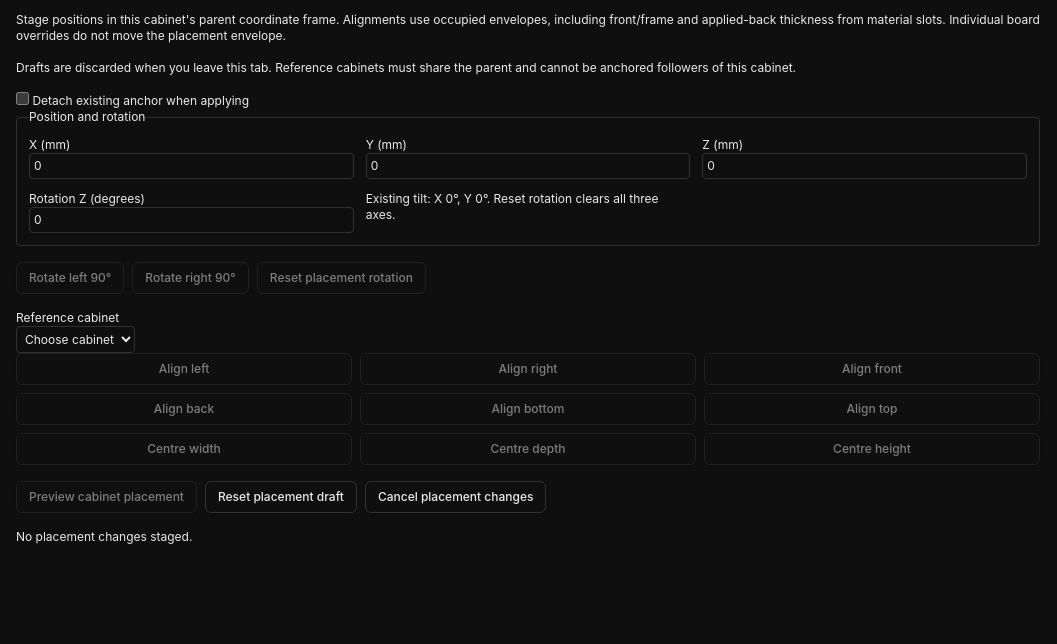
Test case: requires explicit detach for anchored cabinets and rejects incomplete positions
This screenshot has width=1057, height=644.
Expected: the number field named "Placement X" is disabled, [29,153,354,179]
Click the checkbox labelled "Detach existing anchor when applying" at coordinates (22, 98), box [16,92,29,105]
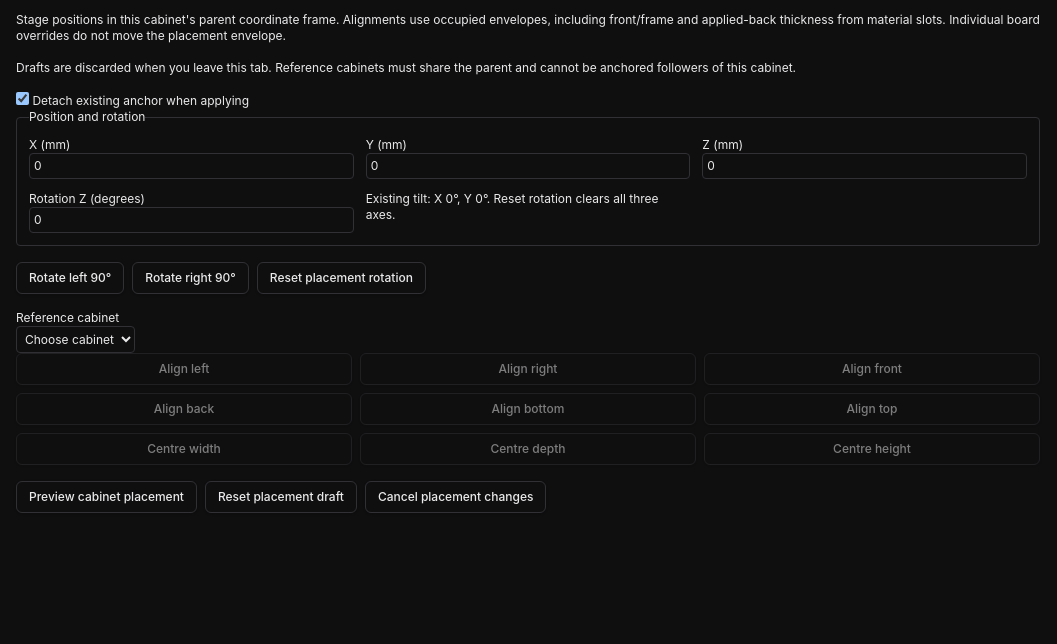
Clear the number field named "Placement X" at coordinates (191, 166), box [29,153,354,179]
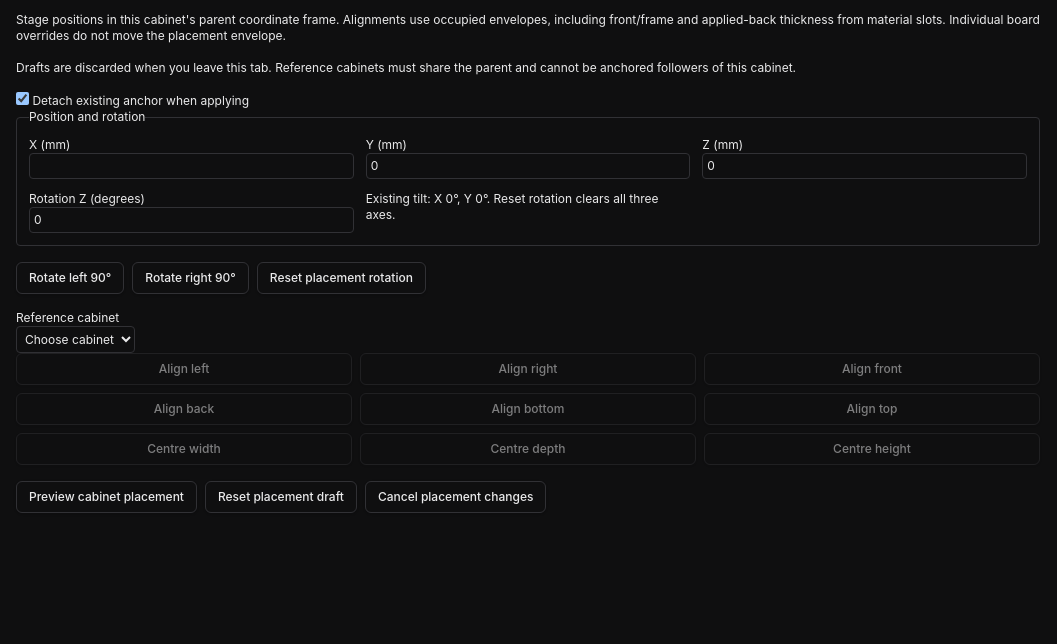
Click the button "Preview cabinet placement" at coordinates (106, 497), box [16,481,197,513]
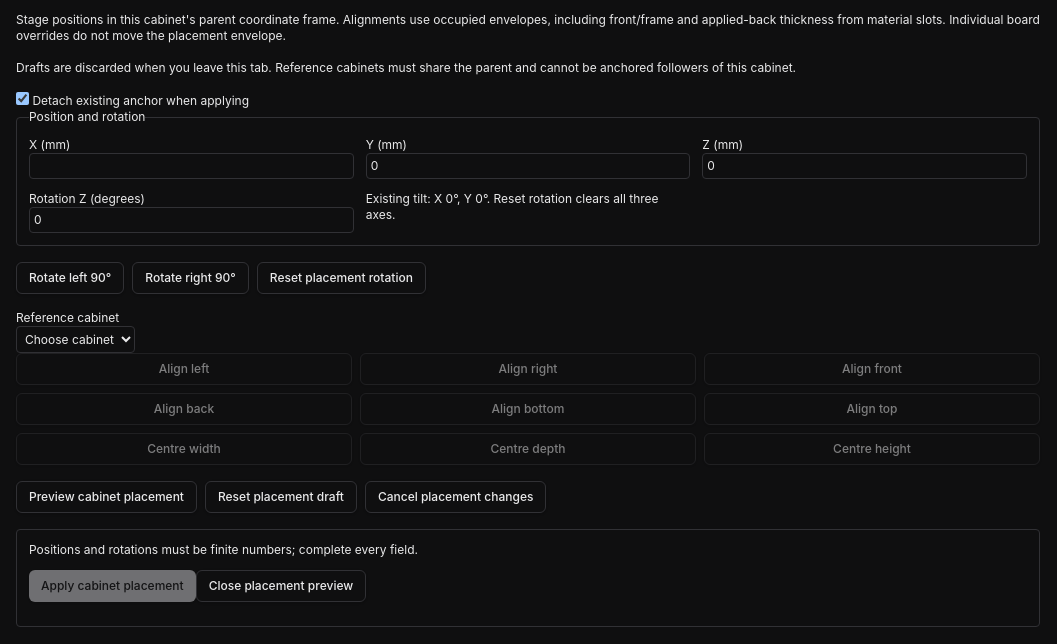
Expected: the message shows "finite", [29,542,418,557]
Expected: the button "Apply cabinet placement" is disabled, [29,570,196,602]
